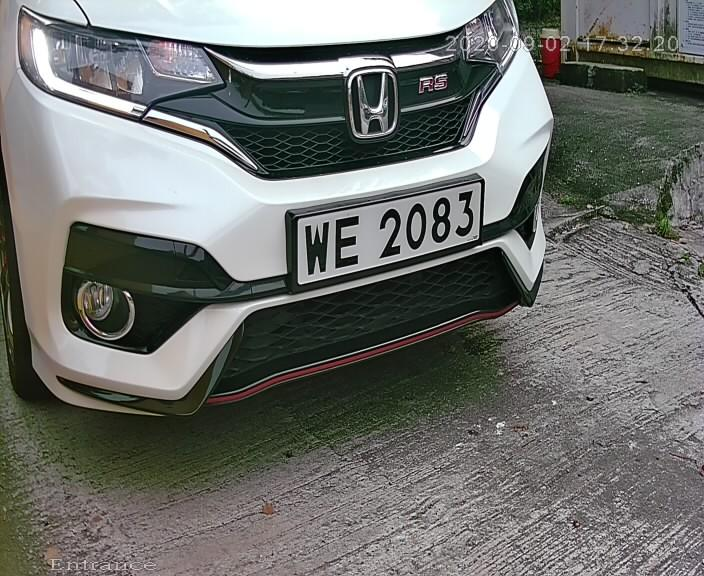Car: (35, 16, 604, 430)
License Plate: (268, 165, 510, 296)
